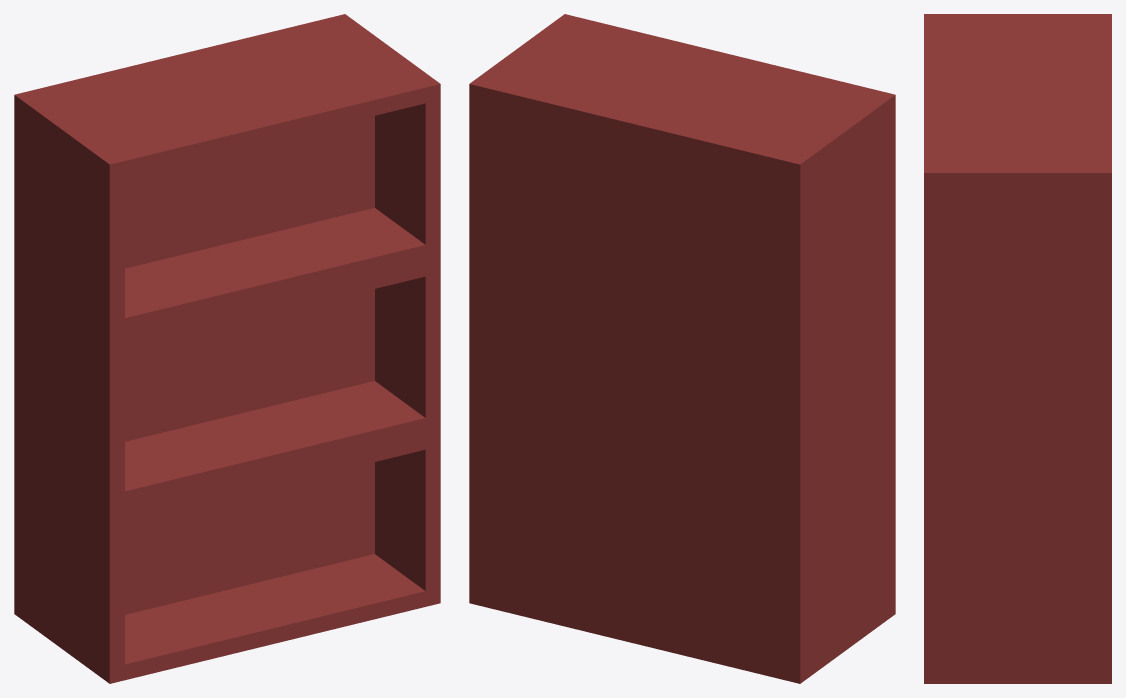
Rendered from bookshelf1x2.fbx.
The picture shows the model from 3 angles, left to right: view 1: azimuth 30°, elevation 25°; view 2: azimuth 150°, elevation 25°; view 3: azimuth 270°, elevation 25°; orthographic projection.
Visible parts, largest first — view 1: Bookshelf1x2; view 2: Bookshelf1x2; view 3: Bookshelf1x2.
Part boxes in pixels (bbox=[...]): Bookshelf1x2: bbox=[14, 14, 440, 683]; Bookshelf1x2: bbox=[469, 14, 895, 683]; Bookshelf1x2: bbox=[924, 14, 1111, 683].
Bounding box in the file's own units: 200 × 300 × 100.
